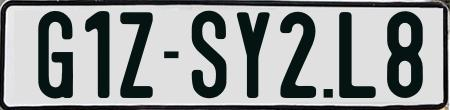1: (83, 11, 112, 101)
2: (280, 11, 322, 98)
8: (386, 10, 422, 97)
G: (37, 9, 76, 102)
L: (336, 10, 375, 101)
S: (192, 10, 232, 102)
Y: (234, 10, 271, 101)
Z: (118, 12, 152, 103)
